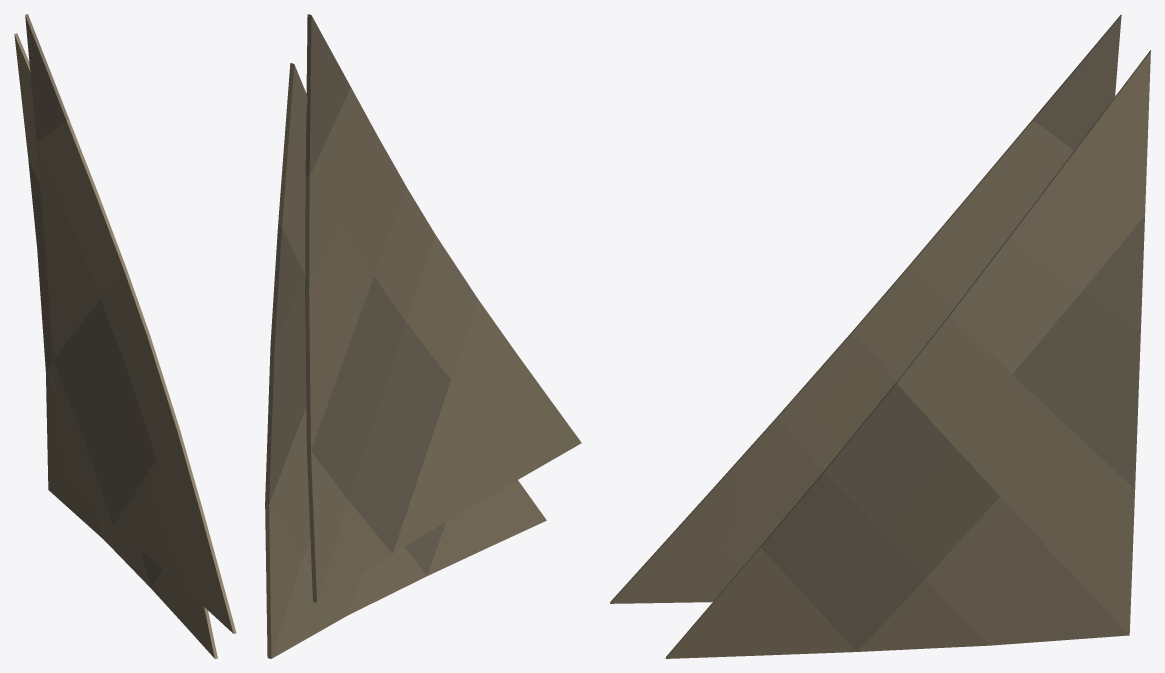
The model's file is MediumShip_3_Mast1_Sails1.fbx.
The picture shows the model from 3 angles, left to right: view 1: azimuth 30°, elevation 25°; view 2: azimuth 150°, elevation 25°; view 3: azimuth 270°, elevation 25°; orthographic projection. The views are drawn at different scales.
Visible parts, largest first — view 1: MediumShip_3_Mast1_Sails1; view 2: MediumShip_3_Mast1_Sails1; view 3: MediumShip_3_Mast1_Sails1.
Boxes of the visible parts, box(x1,y1,x2,y2) form: MediumShip_3_Mast1_Sails1: box(14, 14, 236, 658); MediumShip_3_Mast1_Sails1: box(265, 14, 581, 658); MediumShip_3_Mast1_Sails1: box(610, 14, 1150, 658).
Size of the model in its own units: 75.5 by 1164 by 893.
